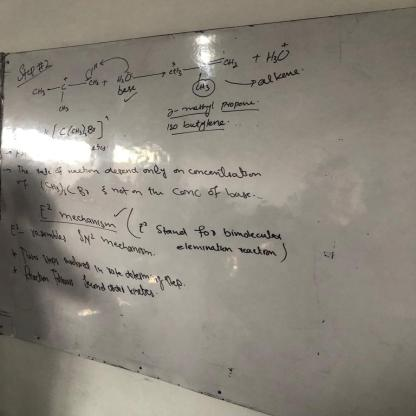Handwritten text: (13, 244, 190, 295), (15, 263, 162, 309), (15, 156, 263, 183), (110, 183, 252, 202), (152, 223, 291, 242), (173, 241, 282, 261), (52, 208, 125, 236), (161, 117, 234, 135), (99, 235, 156, 257), (257, 66, 303, 92), (27, 226, 71, 245), (181, 99, 212, 118), (218, 98, 258, 112)
Whiteboard: (0, 9, 416, 374)
